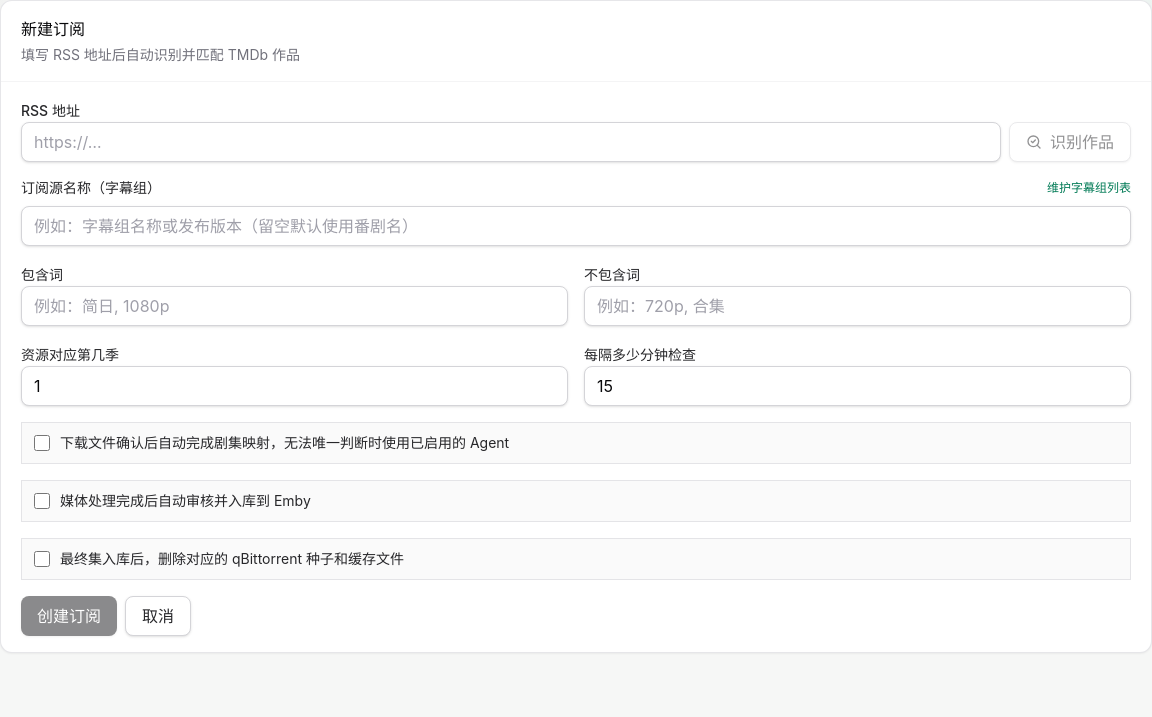
Test: CreateSubscriptionForm › loads only the scoped TMDb candidates proposed by Agent fallback
The width and height of the screenshot is (1152, 717).
Type "https://feeds.example.test/show.xml" into the field labelled "RSS 地址" at (511, 142), box [21,122,1001,162]
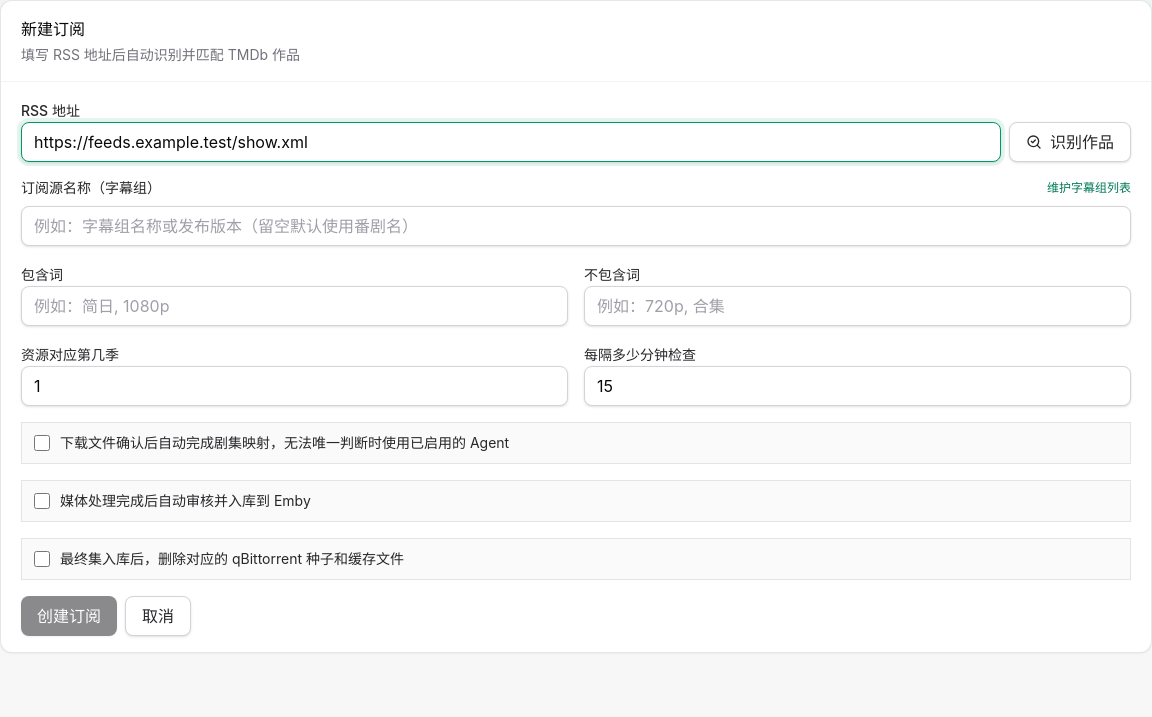
Click the button "识别作品" at (1070, 142), box [1009,122,1131,162]
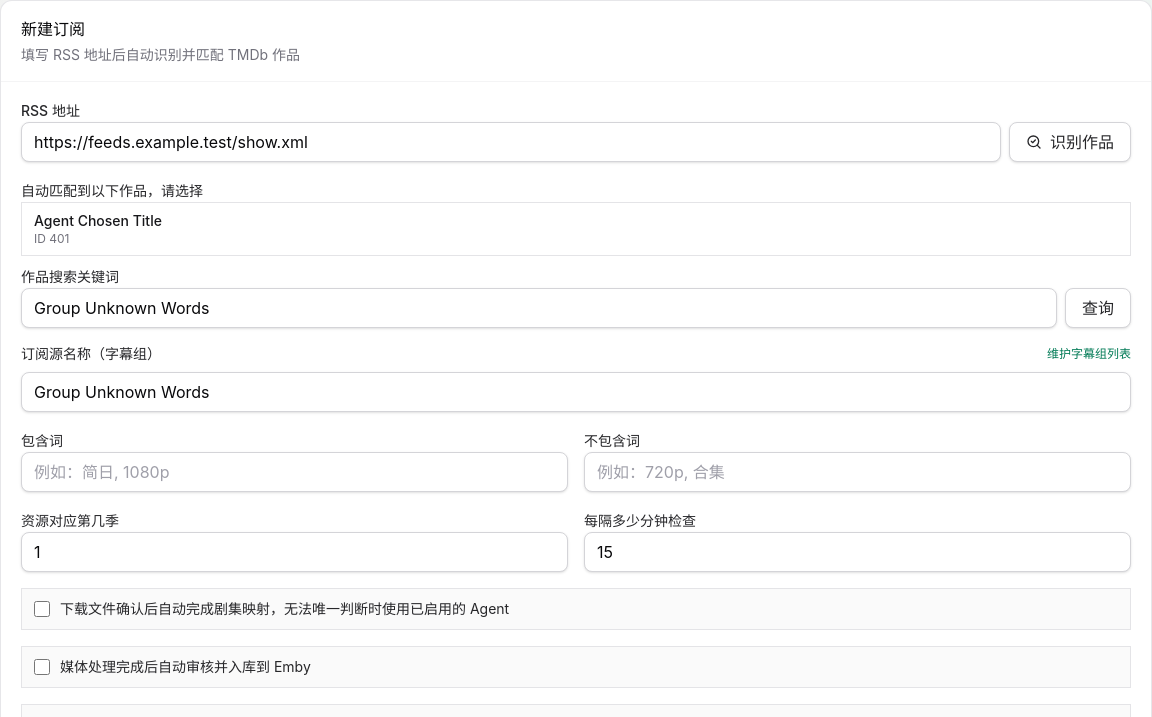
Check: the button "Agent Chosen Title ID 401" is shown, box [22,203,1130,255]
